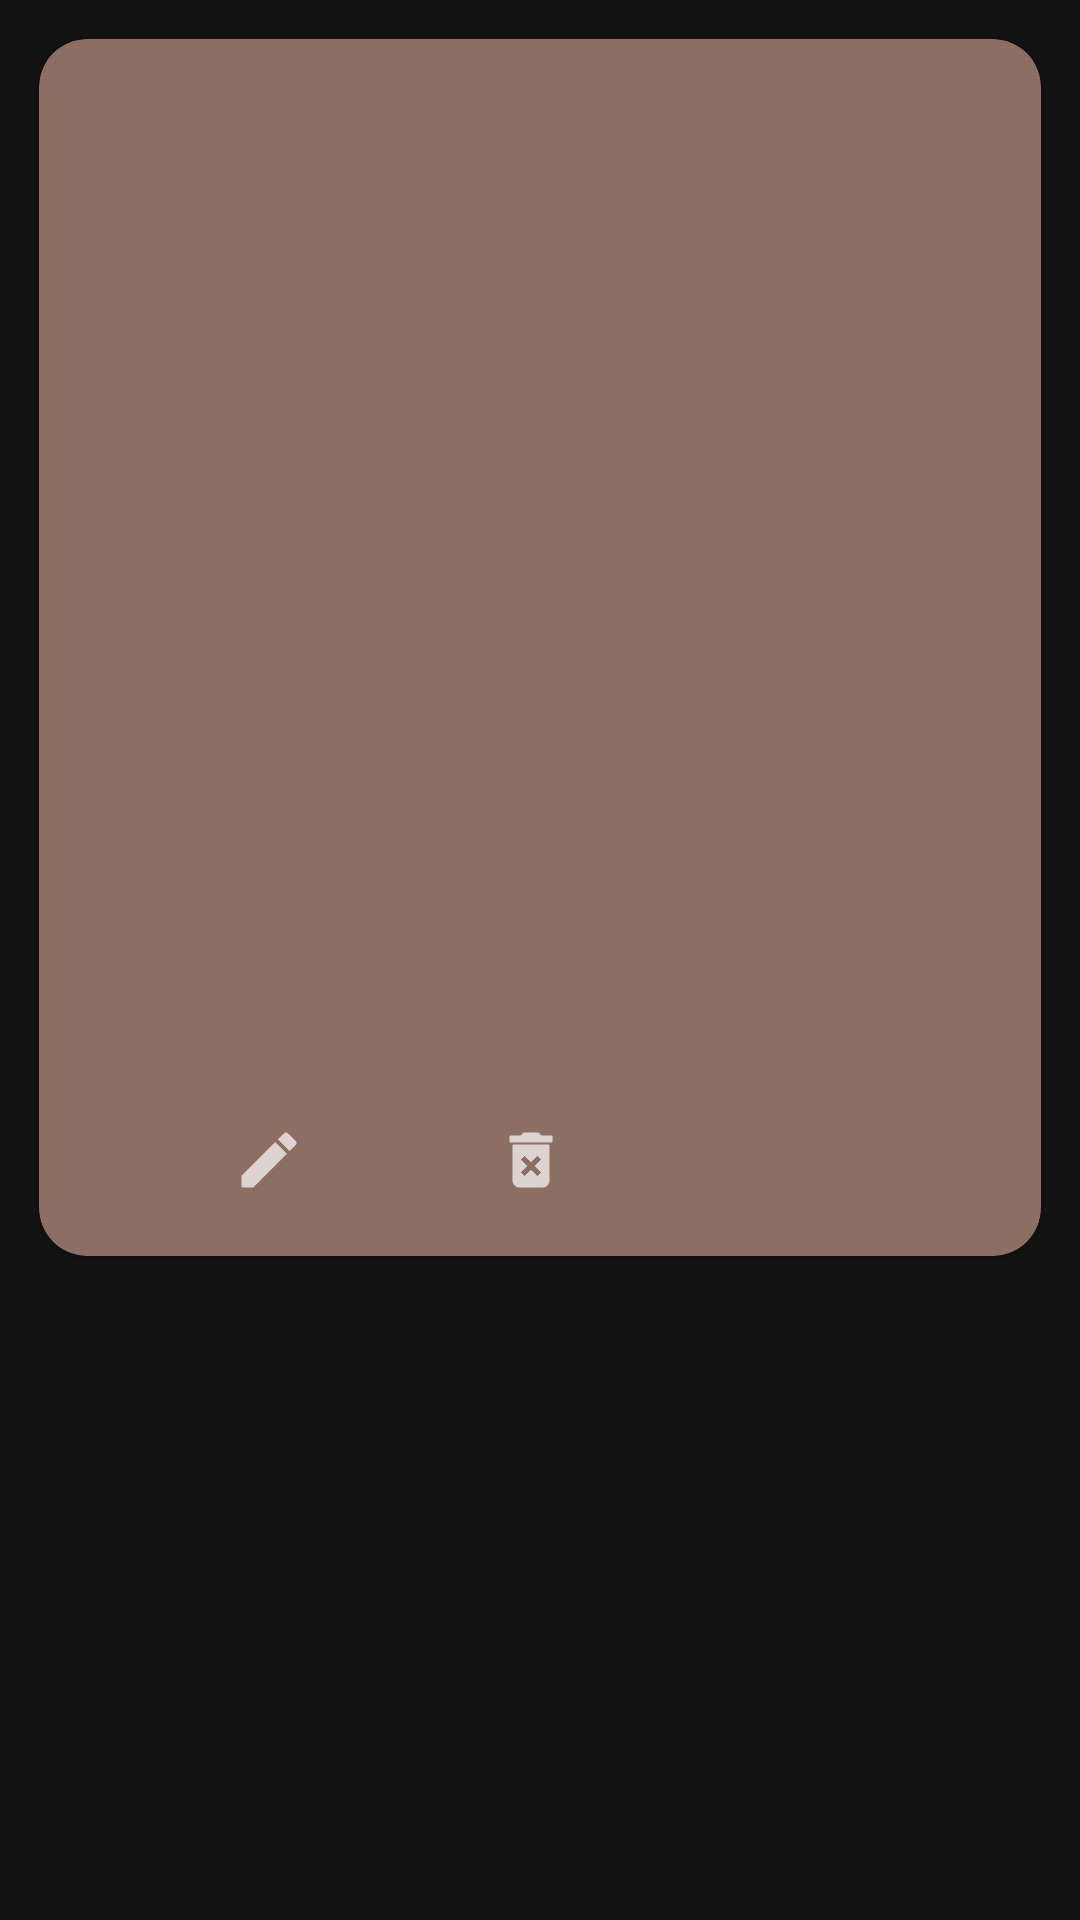

Screen size 1080×1920. Icon name, then its center in pixels as [x,y]:
delete forever: [531,1160]
edit: [269,1160]
